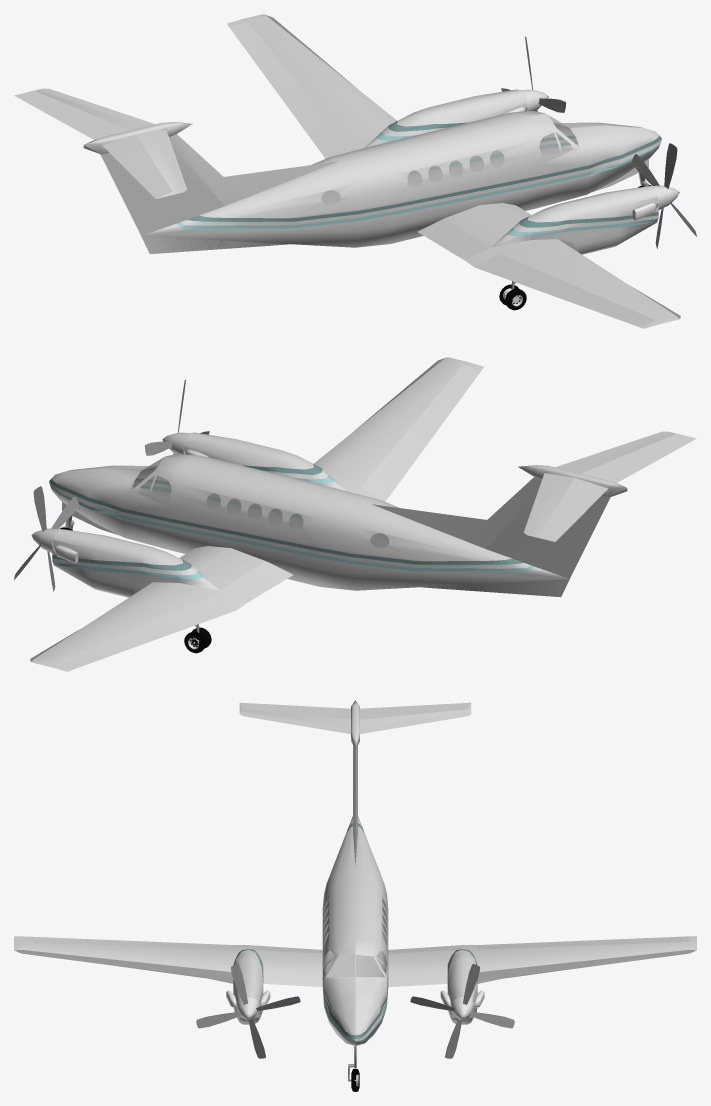
The model's file is Beechcraft King Air B200.glb.
The picture shows the model from 3 angles, top to bottom: view 1: azimuth 30°, elevation 25°; view 2: azimuth 150°, elevation 25°; view 3: azimuth 270°, elevation 25°; orthographic projection. The views are drawn at different scales.
Parts seen in each view (by area): view 1: Geom3D (×7); view 2: Geom3D (×7); view 3: Geom3D (×6).
Boxes of the visible parts, <box> form: Geom3D (×7): <box>14,14,679,328</box>; Geom3D (×7): <box>31,357,696,671</box>; Geom3D (×6): <box>14,700,696,1045</box>.
Size of the model in its own units: 13.3 by 4.5 by 16.61.
